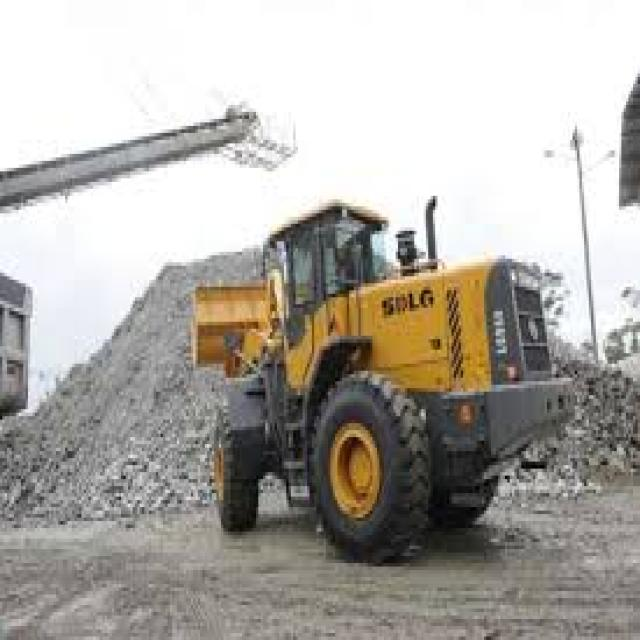buldozerpayloadergrader: (189, 194, 578, 567)
